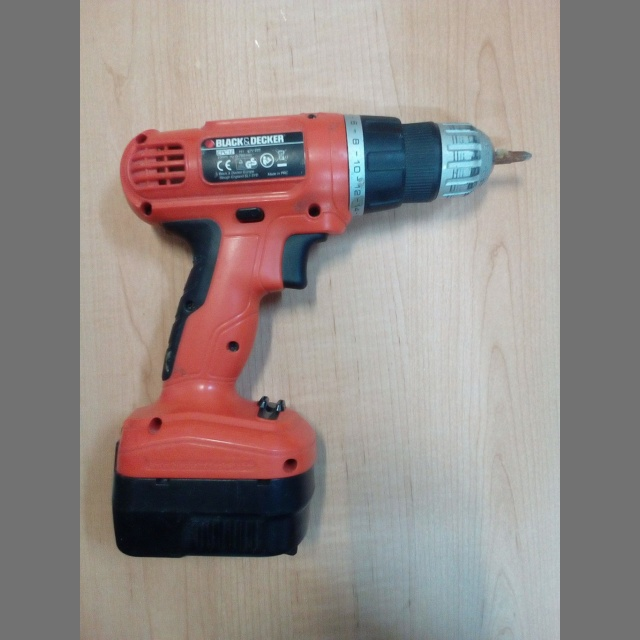drill: (112, 111, 532, 555)
